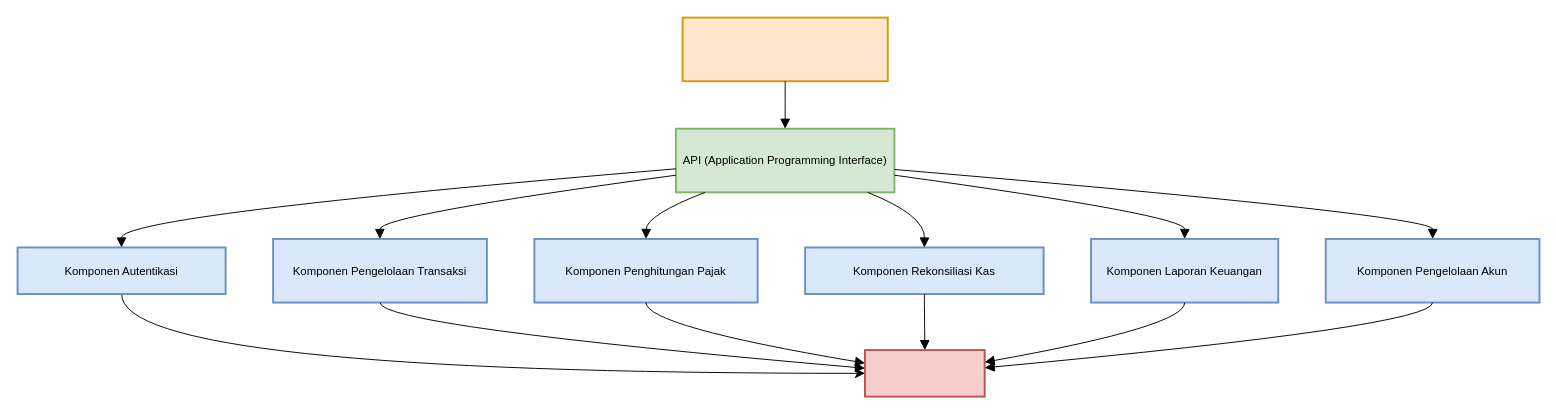
Some shapes in this 1556 by 413 pixel diagram are drawn without their labels. The centre of each missing label's shape, as x and y in pixels:
Database: the point at 924,373
Komponen Antarmuka Pengguna (UI): the point at 784,49
